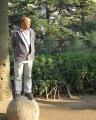male: (19, 14, 34, 31)
